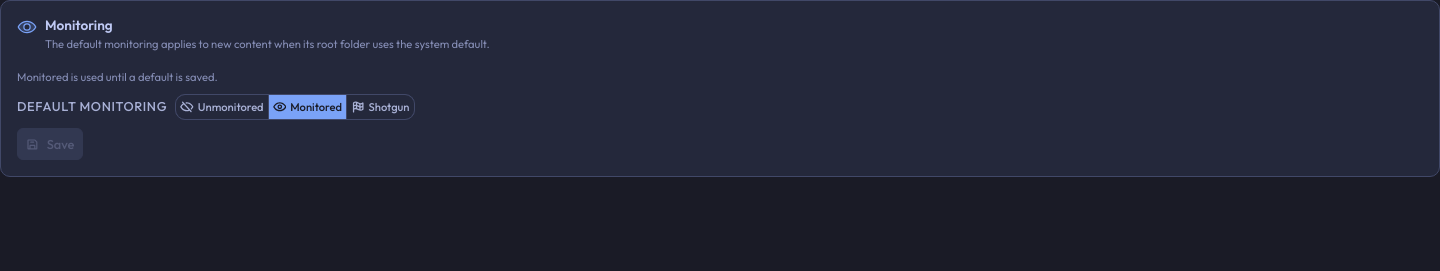
Scenario: MonitoringDefaultPanel › MaxSpread_Shows_WhenShotgunIsChosen
Click the radio button with aria-label "Shotgun:" at (380, 107), box [347,95,414,119]
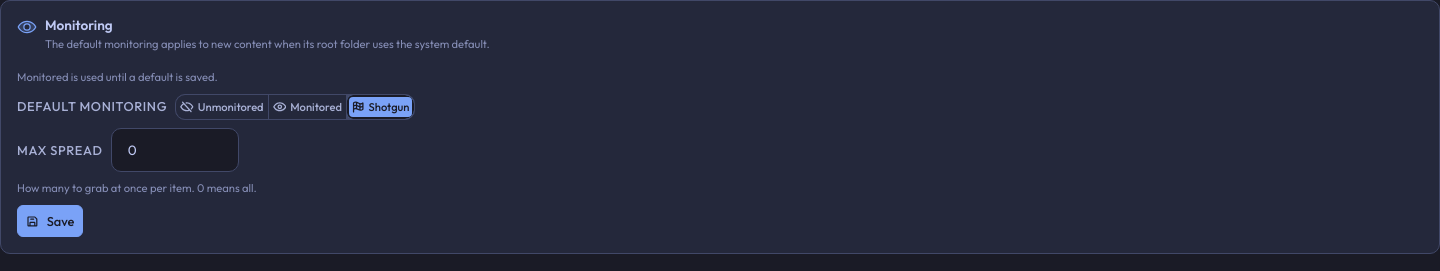
Check: the number field labelled "Max spread" is shown, box [112,132,238,169]
Check: the text "How many to grab at once per item. 0 means all." is shown, box [17,181,257,195]
